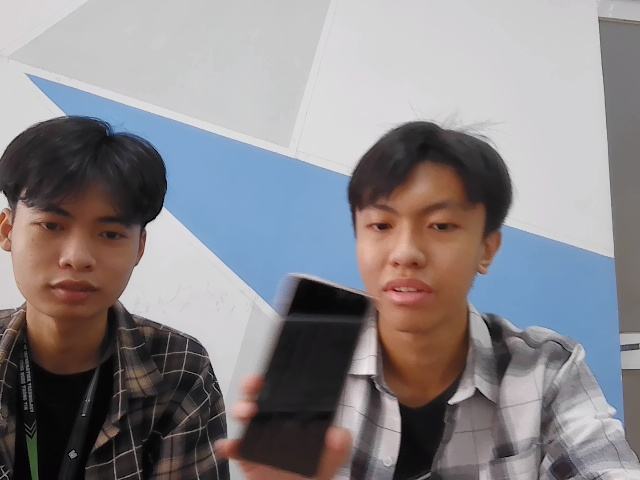human: (344, 115, 516, 336), (3, 113, 173, 324)
phone: (229, 262, 378, 464)
